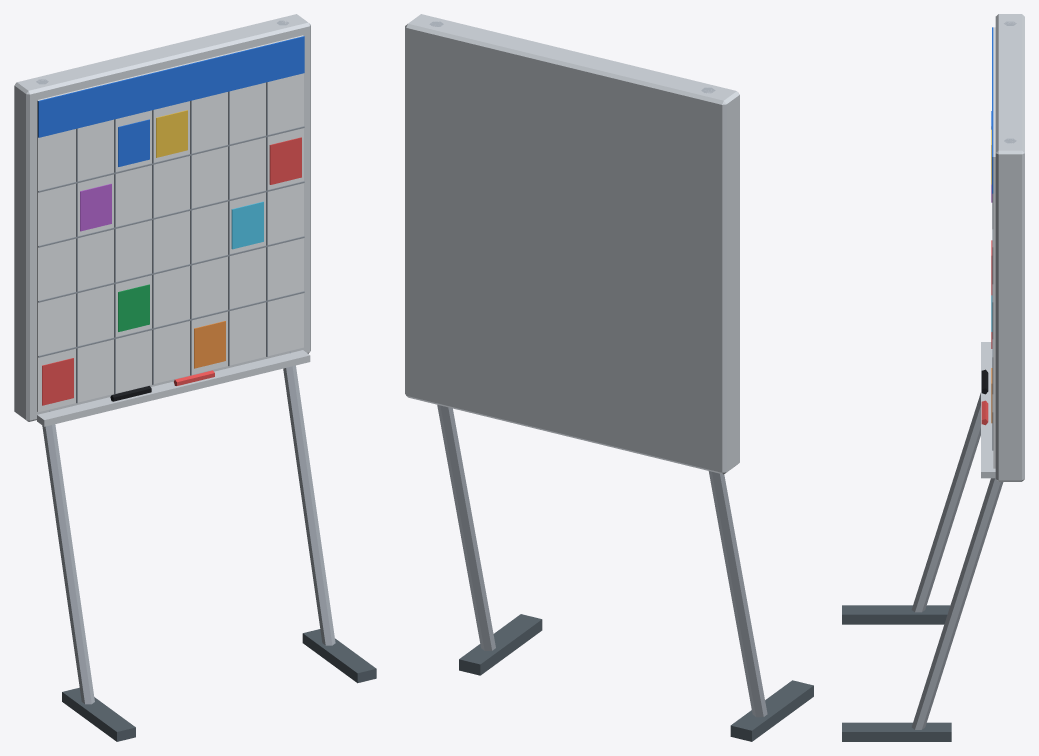
Rendered from fitness_board.glb.
The picture shows the model from 3 angles, left to right: view 1: azimuth 30°, elevation 25°; view 2: azimuth 150°, elevation 25°; view 3: azimuth 270°, elevation 25°; orthographic projection. The views are drawn at different scales.
Parts seen in each view (by area): view 1: fitness_board; view 2: fitness_board; view 3: fitness_board.
Boxes of the visible parts, left/top/right/bottom form: fitness_board: left=14, top=14, right=376, bottom=741; fitness_board: left=405, top=14, right=813, bottom=741; fitness_board: left=842, top=14, right=1024, bottom=741.
Size of the model in its own units: 0.9 by 1.8 by 0.5.
